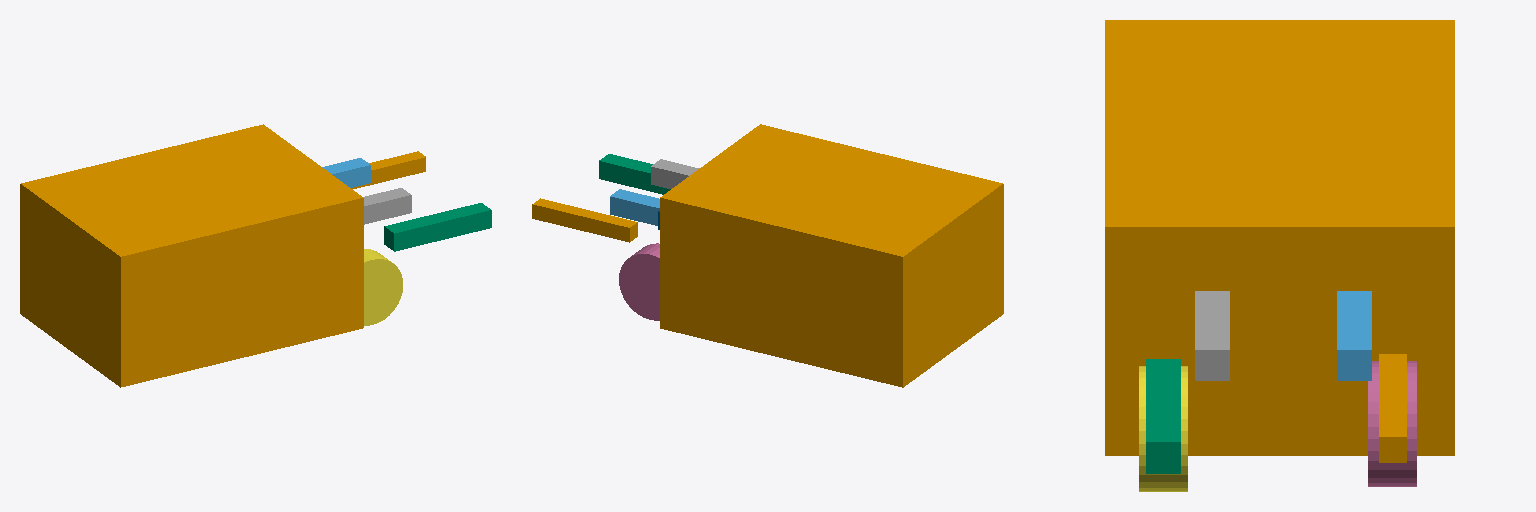
The robot description file, URDF, robot "wheel_leg_robot":
<robot name="wheel_leg_robot">








<link name="base_link">
    <visual>
      <origin xyz="0 0 0" rpy="0 0 0"/>
      <geometry>
        <box size="0.35 0.25 0.18"/>
      </geometry>
    </visual>
    <inertial>
      <origin xyz="0 0 0" rpy="0 0 0"/>
      <mass value="2.0"/>
      <inertia ixx="0.01" ixy="0" ixz="0" iyy="0.01" iyz="0" izz="0.01"/>
    </inertial>
    <collision>
      <origin xyz="0 0 0" rpy="0 0 0"/>
      <geometry>
        <box size="0.35 0.25 0.18"/>
      </geometry>
    </collision>
</link>


  
  

  <link name="big_arm_1_link">
    <visual>
      <origin xyz="0 0 0" rpy="0 0 0"/>
      <geometry>
        <box size="0.1 0.025 0.025"/>
      </geometry>
    </visual>
    <inertial>
      <origin xyz="0 0 0" rpy="0 0 0"/>
      <mass value="0.2"/>
      <inertia ixx="0.0005" ixy="0" ixz="0" iyy="0.0005" iyz="0" izz="0.0005"/>
    </inertial>
    <collision>
      <origin xyz="0 0 0" rpy="0 0 0"/>
      <geometry>
        <box size="0.1 0.025 0.025"/>
      </geometry>
    </collision>
</link>

  <joint name="big_arm_1_joint" type="fixed">
    <parent link="base_link"/>
    <child link="big_arm_1_link"/>
    <origin xyz="0.231306 0.053564 0.030643" rpy="0 0 0"/>
</joint>
<link name="small_leg_wheel_2_link">
    <visual>
      <origin xyz="0 0 0" rpy="0 0 0"/>
      <geometry>
        <box size="0.14 0.025 0.025"/>
      </geometry>
    </visual>
    <inertial>
      <origin xyz="0 0 0" rpy="0 0 0"/>
      <mass value="0.25"/>
      <inertia ixx="0.0008" ixy="0" ixz="0" iyy="0.0008" iyz="0" izz="0.0008"/>
    </inertial>
    <collision>
      <origin xyz="0 0 0" rpy="0 0 0"/>
      <geometry>
        <box size="0.14 0.025 0.025"/>
      </geometry>
    </collision>
</link>

  <joint name="knee_1_joint" type="fixed">
    <parent link="big_arm_1_link"/>
    <child link="small_leg_wheel_2_link"/>
    <origin xyz="0.074699 -0.137000 -0.028637" rpy="0 0 0"/>
</joint>
<link name="wheel_motor_2_link">
    <visual>
      <origin xyz="0 0 0" rpy="1.5708 0 0"/>
      <geometry>
        <cylinder radius="0.045" length="0.035"/>
      </geometry>
    </visual>
    <inertial>
      <origin xyz="0 0 0" rpy="0 0 0"/>
      <mass value="0.5"/>
      <inertia ixx="0.001" ixy="0" ixz="0" iyy="0.001" iyz="0" izz="0.001"/>
    </inertial>
    <collision>
      <origin xyz="0 0 0" rpy="1.5708 0 0"/>
      <geometry>
        <cylinder radius="0.045" length="0.035"/>
      </geometry>
    </collision>
</link>

  <joint name="wheel_2_joint" type="continuous">
    <parent link="small_leg_wheel_2_link"/>
    <child link="wheel_motor_2_link"/>
    <origin xyz="-0.104798 0 -0.058459" rpy="0 0 0"/>
    <axis xyz="0 1 0"/>
  </joint>

  
  

  <link name="big_arm_2_link">
    <visual>
      <origin xyz="0 0 0" rpy="0 0 0"/>
      <geometry>
        <box size="0.1 0.025 0.025"/>
      </geometry>
    </visual>
    <inertial>
      <origin xyz="0 0 0" rpy="0 0 0"/>
      <mass value="0.2"/>
      <inertia ixx="0.0005" ixy="0" ixz="0" iyy="0.0005" iyz="0" izz="0.0005"/>
    </inertial>
    <collision>
      <origin xyz="0 0 0" rpy="0 0 0"/>
      <geometry>
        <box size="0.1 0.025 0.025"/>
      </geometry>
    </collision>
</link>

  <joint name="big_arm_2_joint" type="fixed">
    <parent link="base_link"/>
    <child link="big_arm_2_link"/>
    <origin xyz="0.161440 0.053564 0.026313" rpy="0 0 0"/>
</joint>
<link name="small_leg_wheel_1_link">
    <visual>
      <origin xyz="0 0 0" rpy="0 0 0"/>
      <geometry>
        <box size="0.14 0.025 0.025"/>
      </geometry>
    </visual>
    <inertial>
      <origin xyz="0 0 0" rpy="0 0 0"/>
      <mass value="0.25"/>
      <inertia ixx="0.0008" ixy="0" ixz="0" iyy="0.0008" iyz="0" izz="0.0008"/>
    </inertial>
    <collision>
      <origin xyz="0 0 0" rpy="0 0 0"/>
      <geometry>
        <box size="0.14 0.025 0.025"/>
      </geometry>
    </collision>
</link>

  <joint name="knee_2_joint" type="fixed">
    <parent link="big_arm_2_link"/>
    <child link="small_leg_wheel_1_link"/>
    <origin xyz="-0.070141 0.035000 -0.038473" rpy="0 0 0"/>
</joint>
<link name="wheel_motor_1_link">
    <visual>
      <origin xyz="0 0 0" rpy="1.5708 0 0"/>
      <geometry>
        <cylinder radius="0.045" length="0.035"/>
      </geometry>
    </visual>
    <inertial>
      <origin xyz="0 0 0" rpy="0 0 0"/>
      <mass value="0.5"/>
      <inertia ixx="0.001" ixy="0" ixz="0" iyy="0.001" iyz="0" izz="0.001"/>
    </inertial>
    <collision>
      <origin xyz="0 0 0" rpy="1.5708 0 0"/>
      <geometry>
        <cylinder radius="0.045" length="0.035"/>
      </geometry>
    </collision>
</link>

  <joint name="wheel_1_joint" type="continuous">
    <parent link="small_leg_wheel_1_link"/>
    <child link="wheel_motor_1_link"/>
    <origin xyz="0.113521 -0.008000 -0.038897" rpy="0 0 0"/>
    <axis xyz="0 1 0"/>
  </joint>

  
  

  <link name="big_arm_3_link">
    <visual>
      <origin xyz="0 0 0" rpy="0 0 0"/>
      <geometry>
        <box size="0.1 0.025 0.025"/>
      </geometry>
    </visual>
    <inertial>
      <origin xyz="0 0 0" rpy="0 0 0"/>
      <mass value="0.2"/>
      <inertia ixx="0.0005" ixy="0" ixz="0" iyy="0.0005" iyz="0" izz="0.0005"/>
    </inertial>
    <collision>
      <origin xyz="0 0 0" rpy="0 0 0"/>
      <geometry>
        <box size="0.1 0.025 0.025"/>
      </geometry>
    </collision>
</link>

  <joint name="big_arm_3_joint" type="fixed">
    <parent link="base_link"/>
    <child link="big_arm_3_link"/>
    <origin xyz="0.231306 -0.048436 0.030643" rpy="0 0 0"/>
</joint>
<link name="small_leggy_1_link">
    <visual>
      <origin xyz="0 0 0" rpy="0 0 0"/>
      <geometry>
        <box size="0.14 0.02 0.02"/>
      </geometry>
    </visual>
    <inertial>
      <origin xyz="0 0 0" rpy="0 0 0"/>
      <mass value="0.15"/>
      <inertia ixx="0.0004" ixy="0" ixz="0" iyy="0.0004" iyz="0" izz="0.0004"/>
    </inertial>
    <collision>
      <origin xyz="0 0 0" rpy="0 0 0"/>
      <geometry>
        <box size="0.14 0.02 0.02"/>
      </geometry>
    </collision>
</link>

  <joint name="knee_3_joint" type="fixed">
    <parent link="big_arm_3_link"/>
    <child link="small_leggy_1_link"/>
    <origin xyz="0.077142 0.129000 -0.021192" rpy="0 0 0"/>
</joint>

  
  

  <link name="big_arm_4_link">
    <visual>
      <origin xyz="0 0 0" rpy="0 0 0"/>
      <geometry>
        <box size="0.1 0.025 0.025"/>
      </geometry>
    </visual>
    <inertial>
      <origin xyz="0 0 0" rpy="0 0 0"/>
      <mass value="0.2"/>
      <inertia ixx="0.0005" ixy="0" ixz="0" iyy="0.0005" iyz="0" izz="0.0005"/>
    </inertial>
    <collision>
      <origin xyz="0 0 0" rpy="0 0 0"/>
      <geometry>
        <box size="0.1 0.025 0.025"/>
      </geometry>
    </collision>
</link>

  <joint name="big_arm_4_joint" type="fixed">
    <parent link="base_link"/>
    <child link="big_arm_4_link"/>
    <origin xyz="0.161440 -0.048436 0.026313" rpy="0 0 0"/>
</joint>
<link name="small_leggy_2_link">
    <visual>
      <origin xyz="0 0 0" rpy="0 0 0"/>
      <geometry>
        <box size="0.14 0.02 0.02"/>
      </geometry>
    </visual>
    <inertial>
      <origin xyz="0 0 0" rpy="0 0 0"/>
      <mass value="0.15"/>
      <inertia ixx="0.0004" ixy="0" ixz="0" iyy="0.0004" iyz="0" izz="0.0004"/>
    </inertial>
    <collision>
      <origin xyz="0 0 0" rpy="0 0 0"/>
      <geometry>
        <box size="0.14 0.02 0.02"/>
      </geometry>
    </collision>
</link>

  <joint name="knee_4_joint" type="fixed">
    <parent link="big_arm_4_link"/>
    <child link="small_leggy_2_link"/>
    <origin xyz="-0.071059 -0.027000 -0.036750" rpy="0 0 0"/>
</joint>

  <ros2_control name="GazeboSystem" type="system">
    <hardware>
      <plugin>gazebo_ros2_control/GazeboSystem</plugin>
    </hardware>

    <joint name="wheel_1_joint">
      <command_interface name="velocity">
        <param name="min">-50</param>
        <param name="max">50</param>
      </command_interface>
      <state_interface name="position"/>
      <state_interface name="velocity"/>
    </joint>

    <joint name="wheel_2_joint">
      <command_interface name="velocity">
        <param name="min">-50</param>
        <param name="max">50</param>
      </command_interface>
      <state_interface name="position"/>
      <state_interface name="velocity"/>
    </joint>
  </ros2_control>

  <gazebo>
    <plugin name="gazebo_ros2_control" filename="libgazebo_ros2_control.so">
      <parameters>/home/hby/foot_ws/src/wheel_leg_description/config/wheel_controllers.yaml</parameters>
    </plugin>
  </gazebo>

</robot>

--- Render facts (derived) ---
Views: 3 orthographic renders of the robot side by side, from view 1: azimuth 30°, elevation 25°; view 2: azimuth 150°, elevation 25°; view 3: azimuth 270°, elevation 25°.
Robot: wheel_leg_robot — 11 links, 10 joints (2 continuous, 8 fixed); root link base_link; default pose: every joint at zero.
Links seen in each view (by area): view 1: base_link, small_leg_wheel_2_link, wheel_motor_2_link, big_arm_3_link, small_leggy_1_link, big_arm_1_link; view 2: base_link, wheel_motor_1_link, small_leggy_1_link, small_leg_wheel_2_link, big_arm_1_link, big_arm_3_link; view 3: base_link, small_leg_wheel_2_link, wheel_motor_1_link, big_arm_1_link, big_arm_3_link, small_leggy_1_link, wheel_motor_2_link.
Boxes of the visible links, x1,y1,x2,y2 form: base_link: (20,124,363,387); small_leg_wheel_2_link: (384,203,491,251); wheel_motor_2_link: (364,249,402,325); big_arm_3_link: (363,188,411,224); small_leggy_1_link: (351,151,425,188); big_arm_1_link: (322,158,370,187); base_link: (660,124,1003,387); wheel_motor_1_link: (619,243,659,320); small_leggy_1_link: (532,198,637,242); small_leg_wheel_2_link: (599,154,670,194); big_arm_1_link: (610,189,659,225); big_arm_3_link: (651,159,699,188); base_link: (1105,20,1454,455); small_leg_wheel_2_link: (1146,359,1180,473); wheel_motor_1_link: (1368,361,1416,486); big_arm_1_link: (1337,291,1371,380); big_arm_3_link: (1195,291,1229,380); small_leggy_1_link: (1379,354,1406,462); wheel_motor_2_link: (1139,366,1187,491).
Bounding box of the posed robot: 0.5534 × 0.25 × 0.1915 m (x, y, z).
Geometry: primitives only (box / cylinder / sphere), no mesh files.
